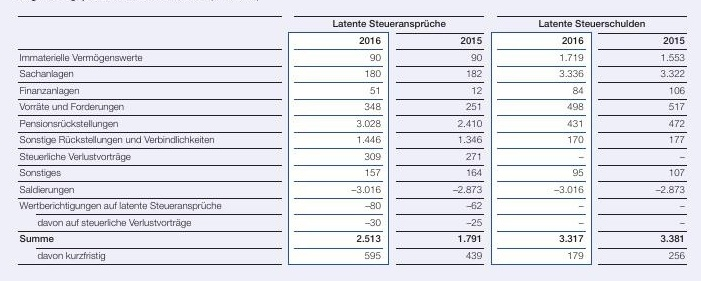table: (0, 0, 701, 281)
